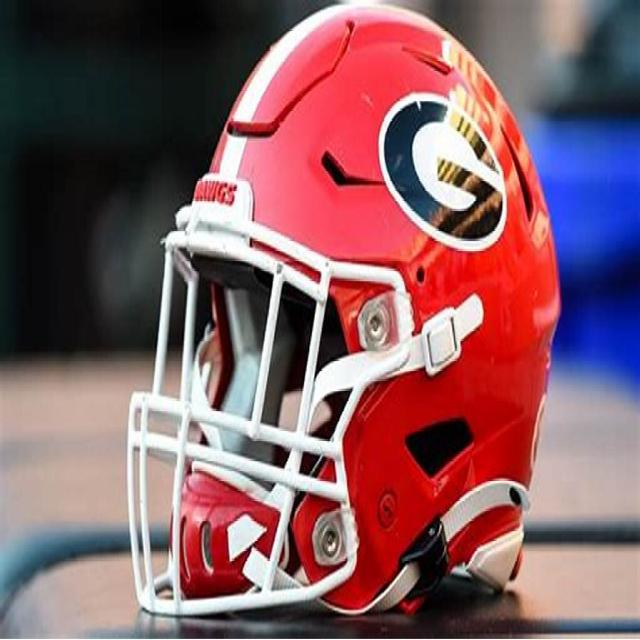illegal_helmet: (120, 3, 566, 625)
